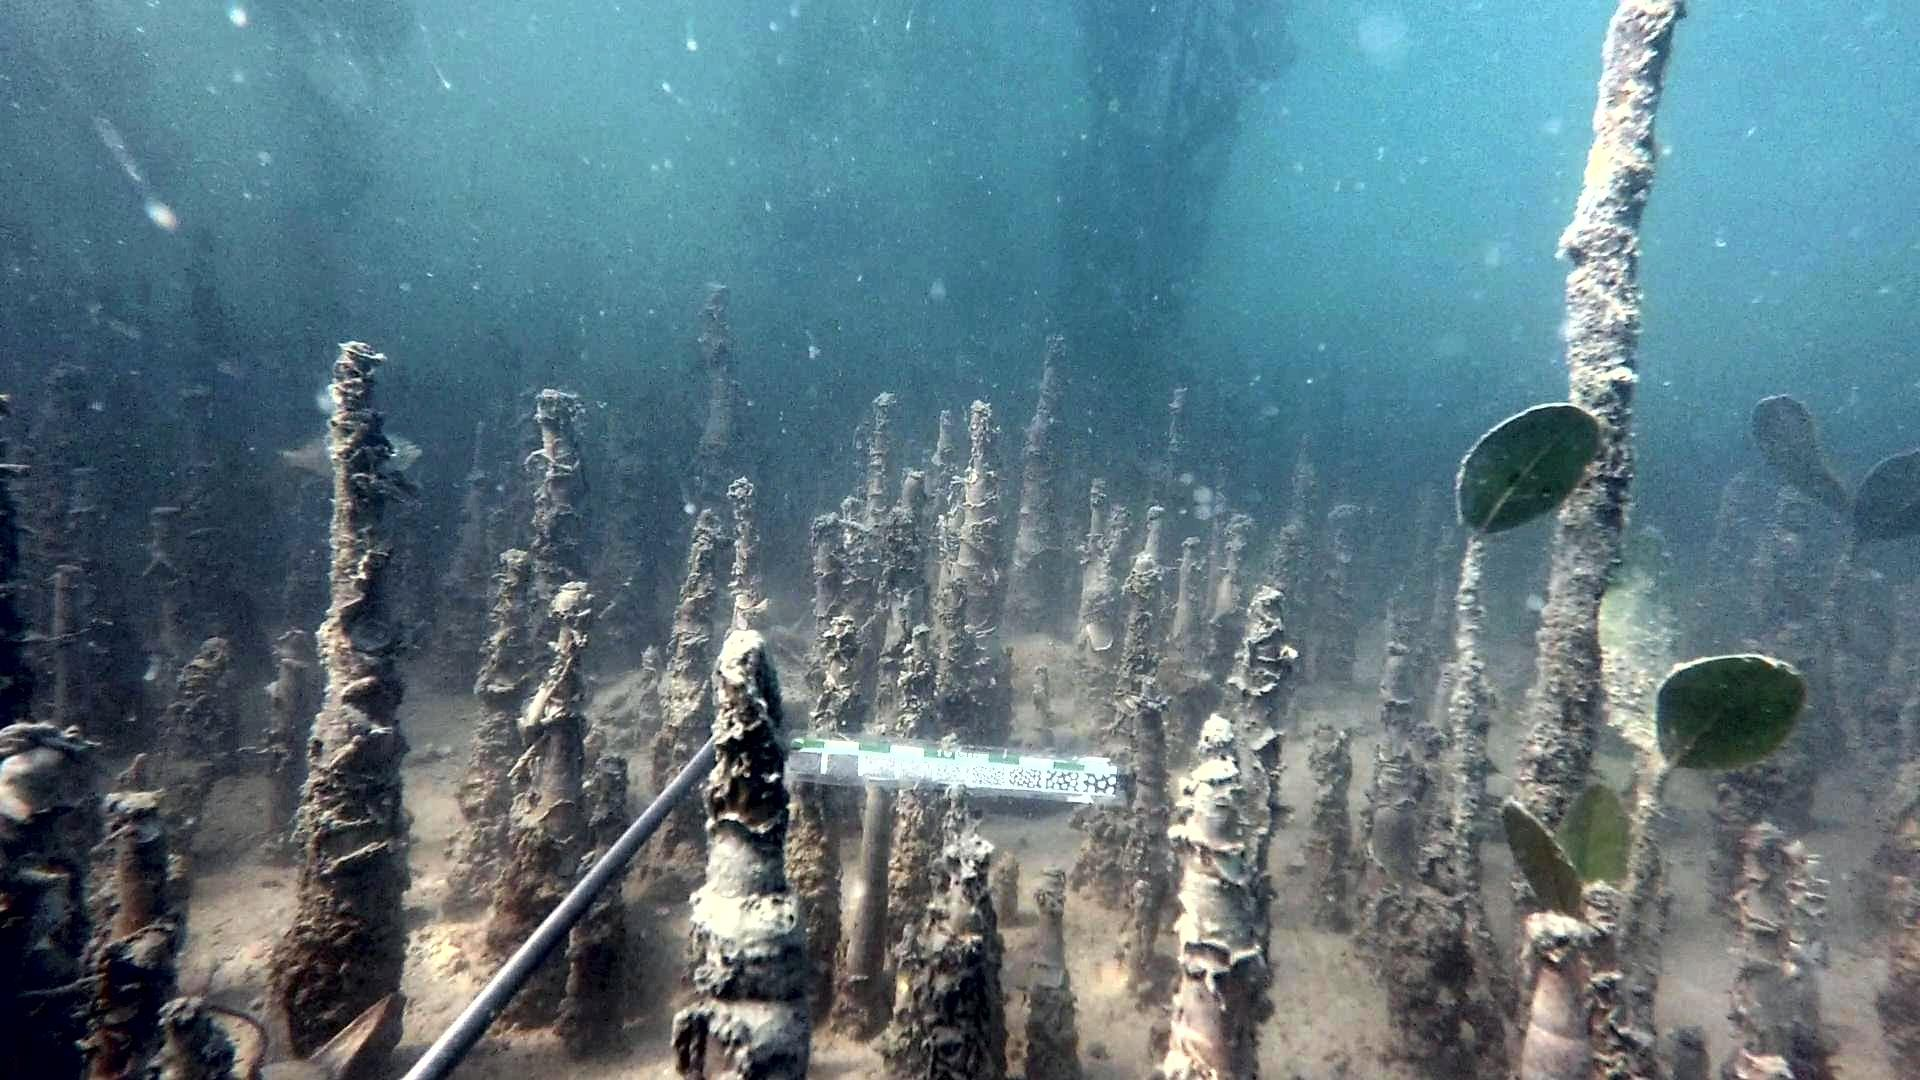gerres: (269, 424, 331, 485), (382, 427, 426, 484)
